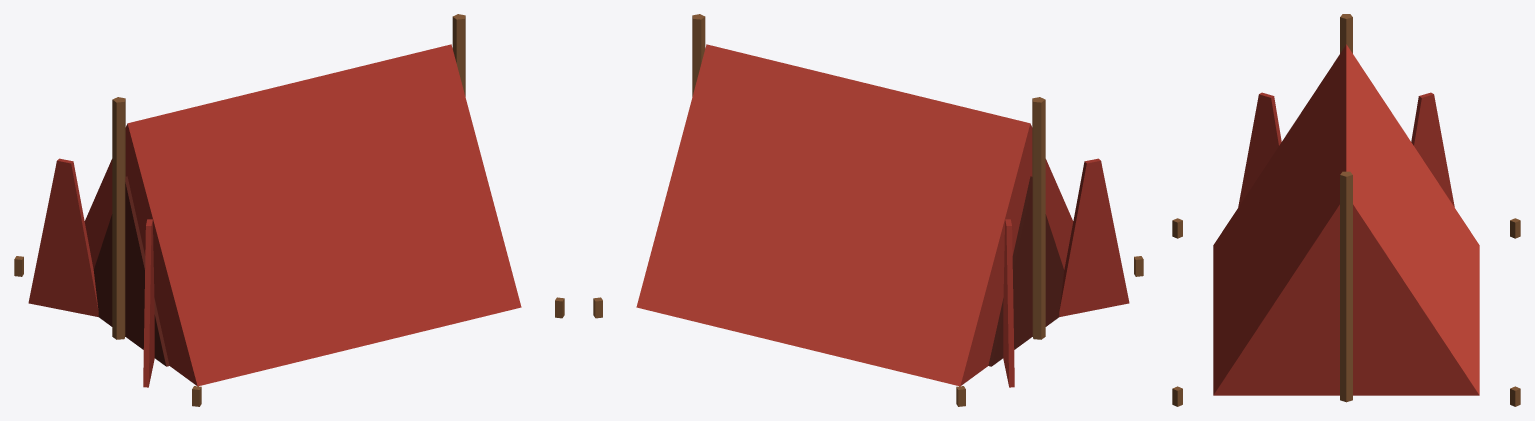
The model's file is tent_detailedOpen.glb.
3 renders of one model, left to right at view 1: azimuth 30°, elevation 25°; view 2: azimuth 150°, elevation 25°; view 3: azimuth 270°, elevation 25°, orthographic. The views are drawn at different scales.
Visible parts, largest first — view 1: tent_detailedOpen; view 2: tent_detailedOpen; view 3: tent_detailedOpen.
Part boxes in pixels (x1=…): tent_detailedOpen: x1=14, y1=14, x2=564, y2=406; tent_detailedOpen: x1=593, y1=14, x2=1143, y2=406; tent_detailedOpen: x1=1172, y1=14, x2=1520, y2=406.
Bounding box in the file's own units: 0.9631 × 0.56 × 0.784.
Materials: 1 (1 with a texture image).
